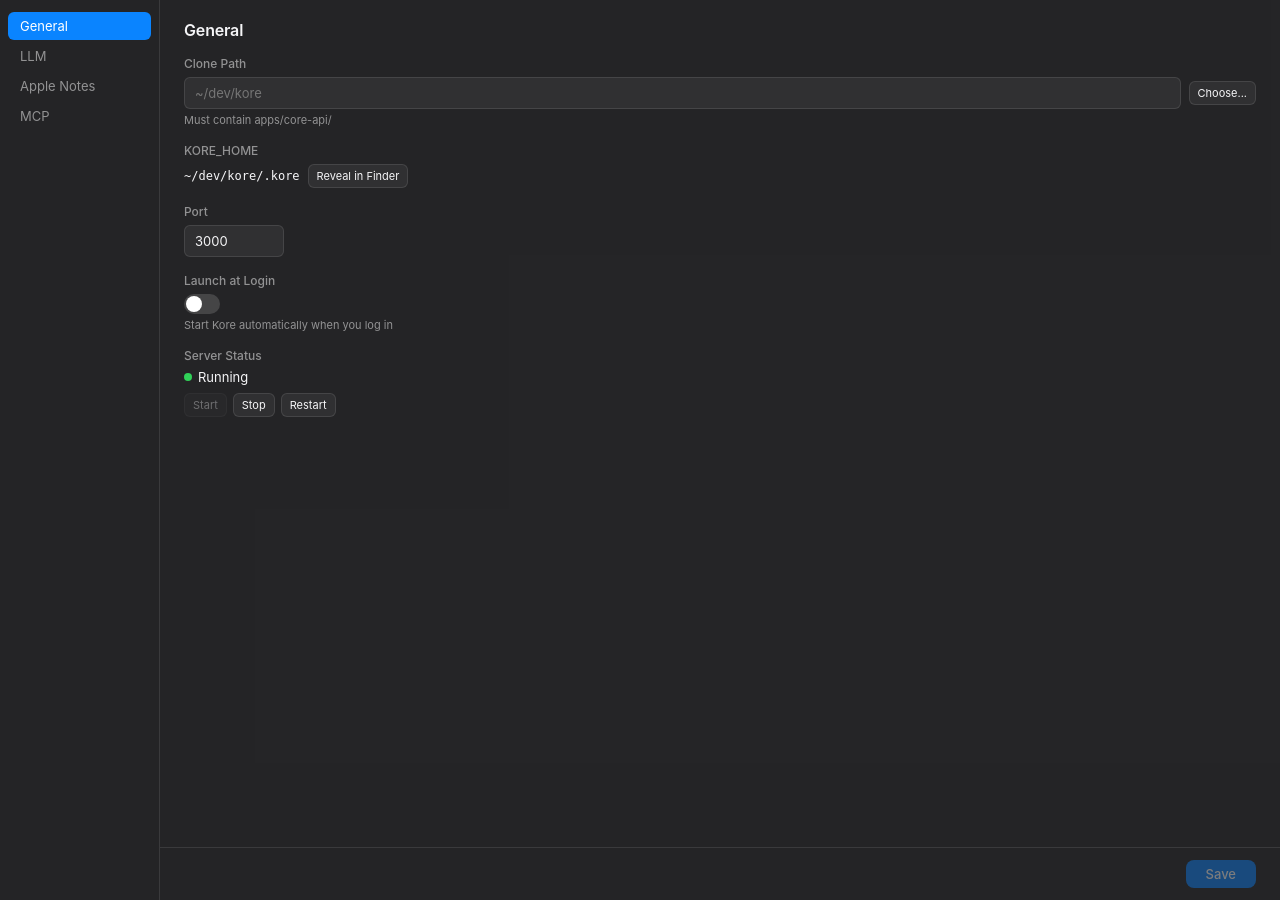
Scenario: renders LLM tab when clicked
Click the button "LLM". click: (80, 56)
box: [8,42,151,70]
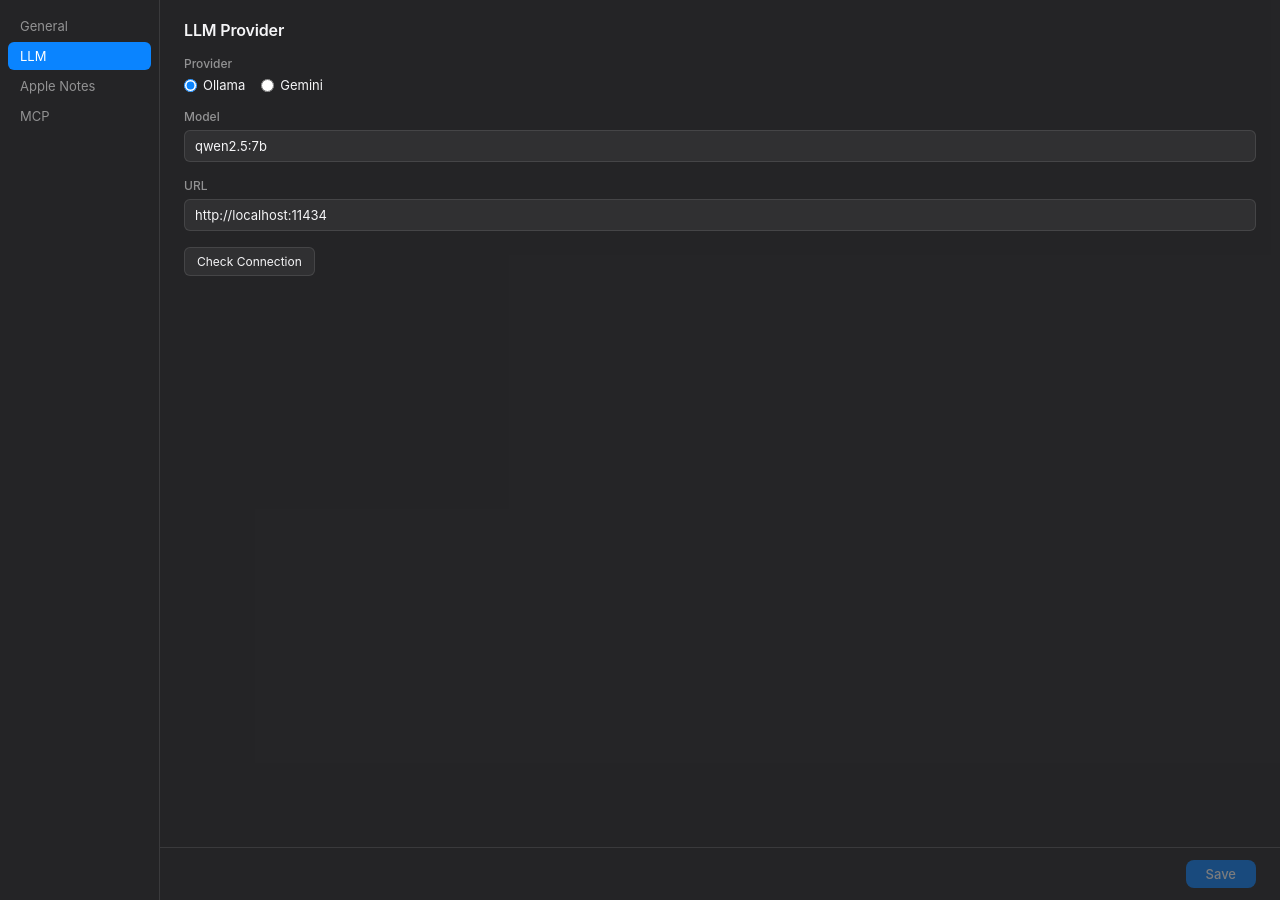
Expected: the heading "LLM Provider" is shown, [184,20,284,40]
Expected: the text "Ollama" is shown, [184,77,245,93]
Expected: the text "Gemini" is shown, [261,77,323,93]
